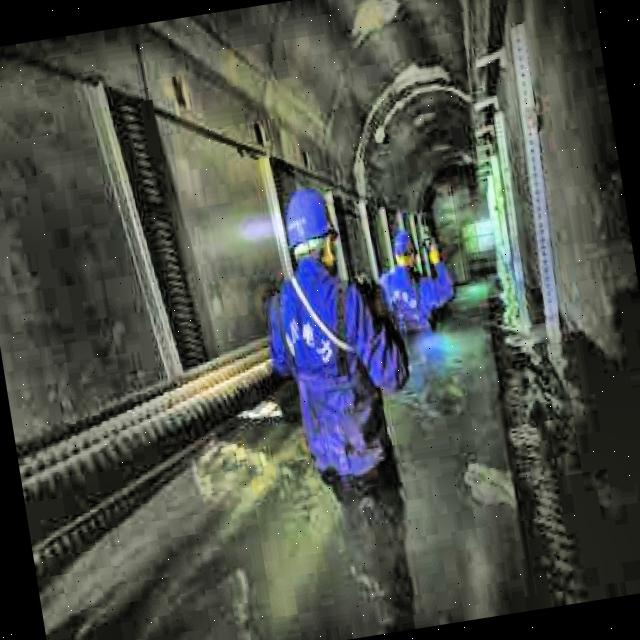helmet: (278, 182, 344, 286), (390, 228, 420, 274)
